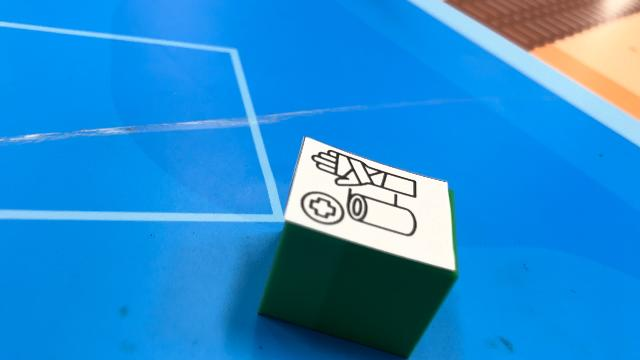bandage: (257, 136, 459, 358)
